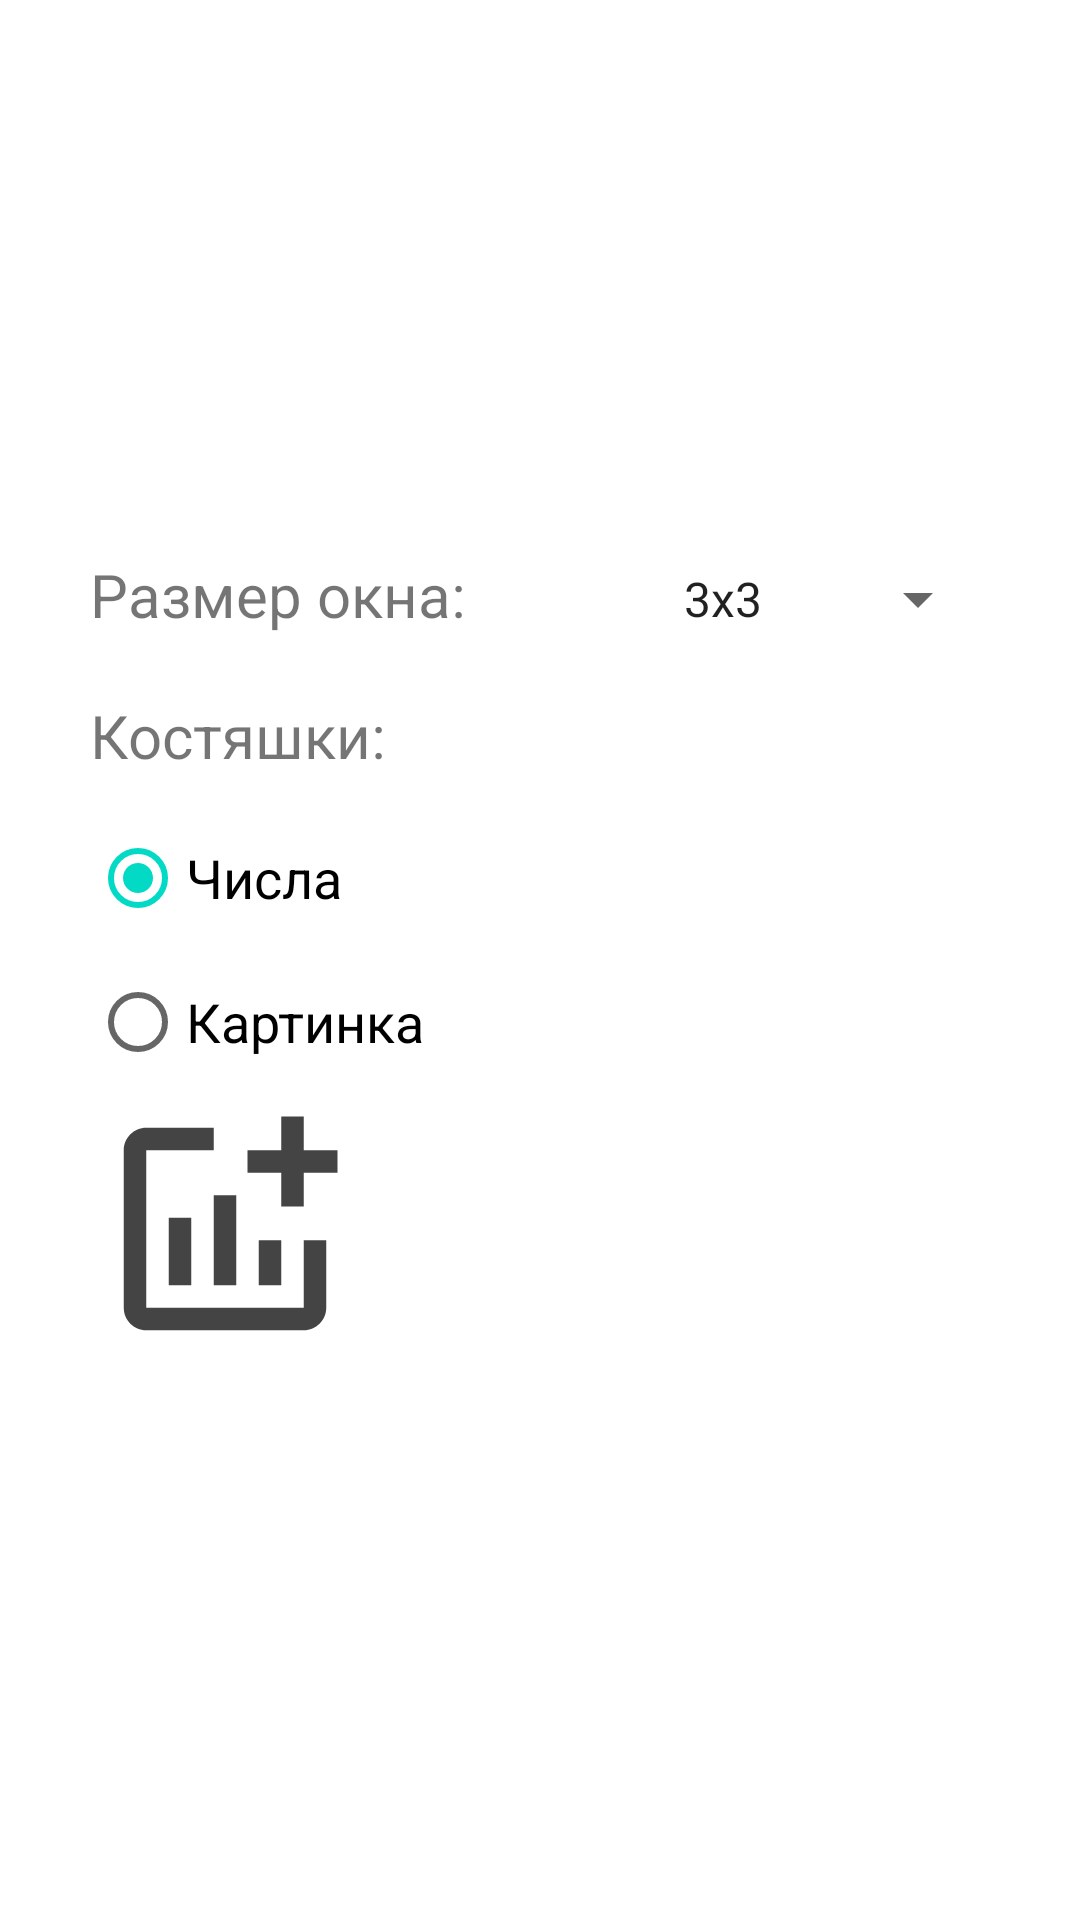

Icons on this 1080×1920 Android screen, each with the point to tap as (x=x, y=y):
addachart: (x=230, y=1223)
